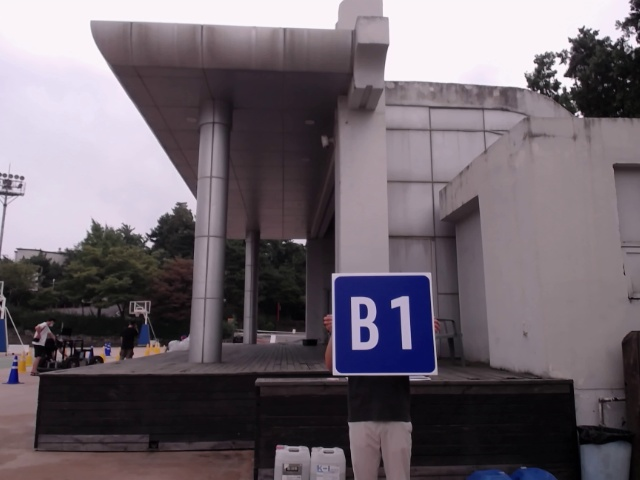delivery_b1: (333, 273, 437, 375)
